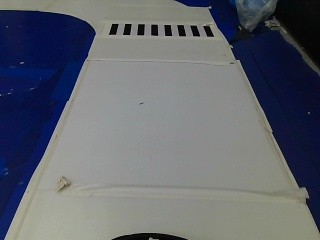crosswalk: (100, 20, 218, 41)
